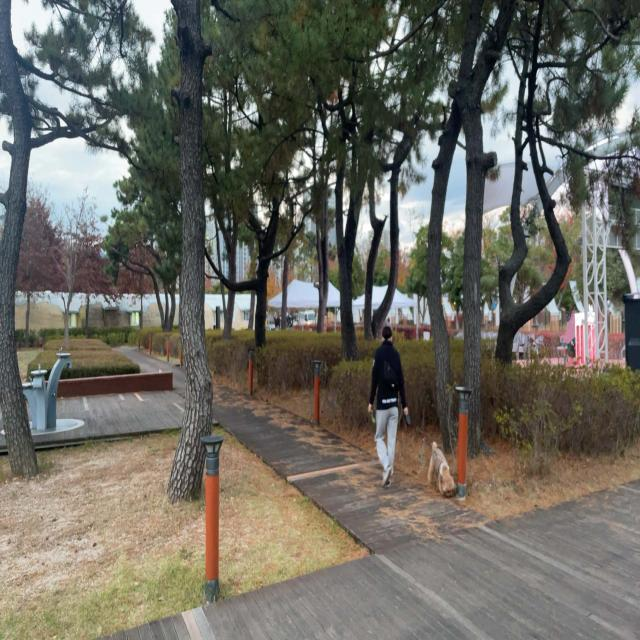Leashed_Dog: (390, 404, 456, 499)
